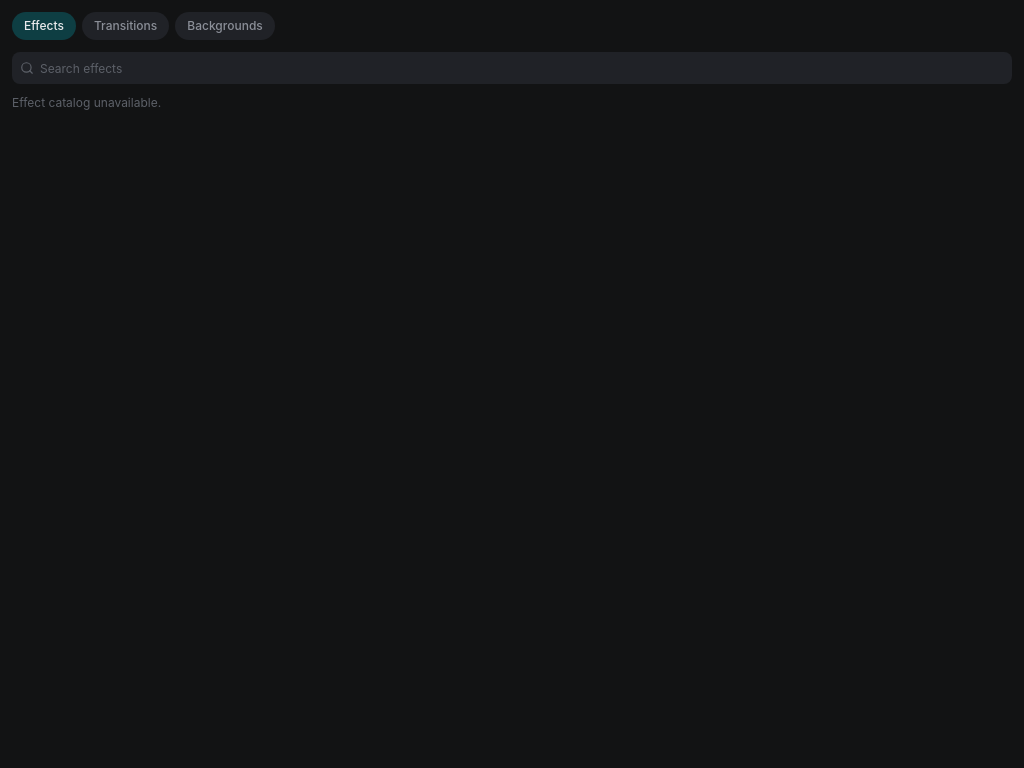
Test: Effects tab transitions › describes changing an existing transition
Click the button "Transitions" at (126,26), box [82,12,169,40]
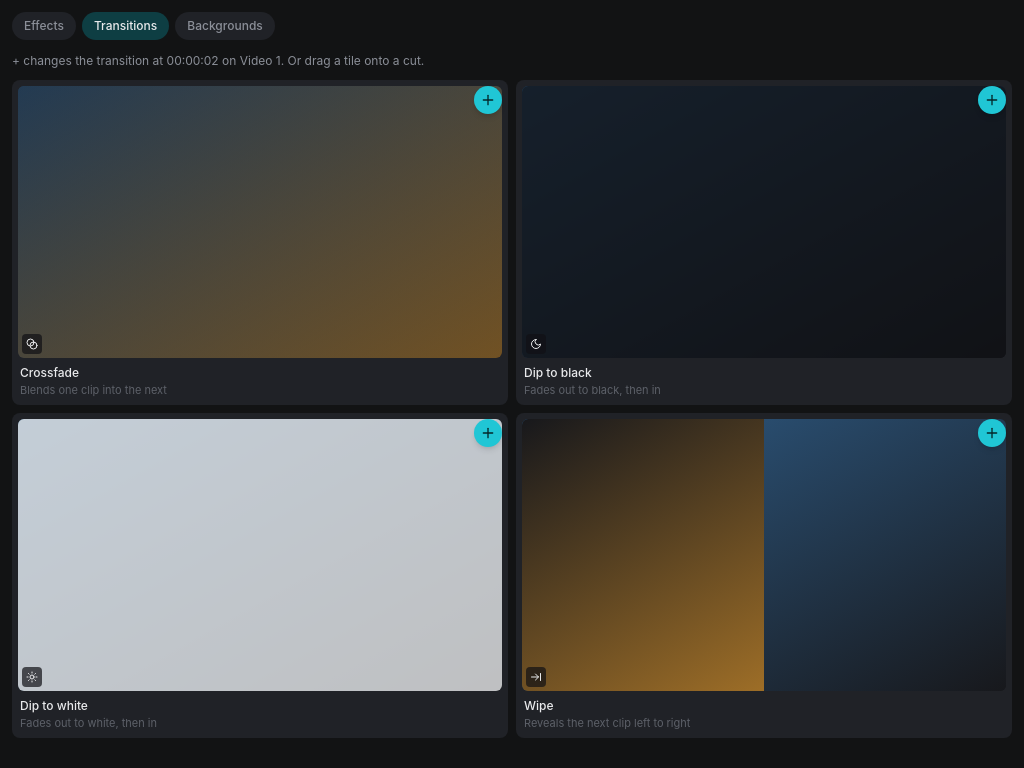
Now the text "+ changes the transition at 00:00:02" is shown, box [12,53,424,68]
